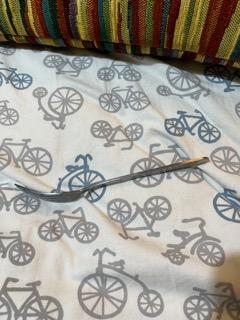fork: (14, 155, 209, 204)
